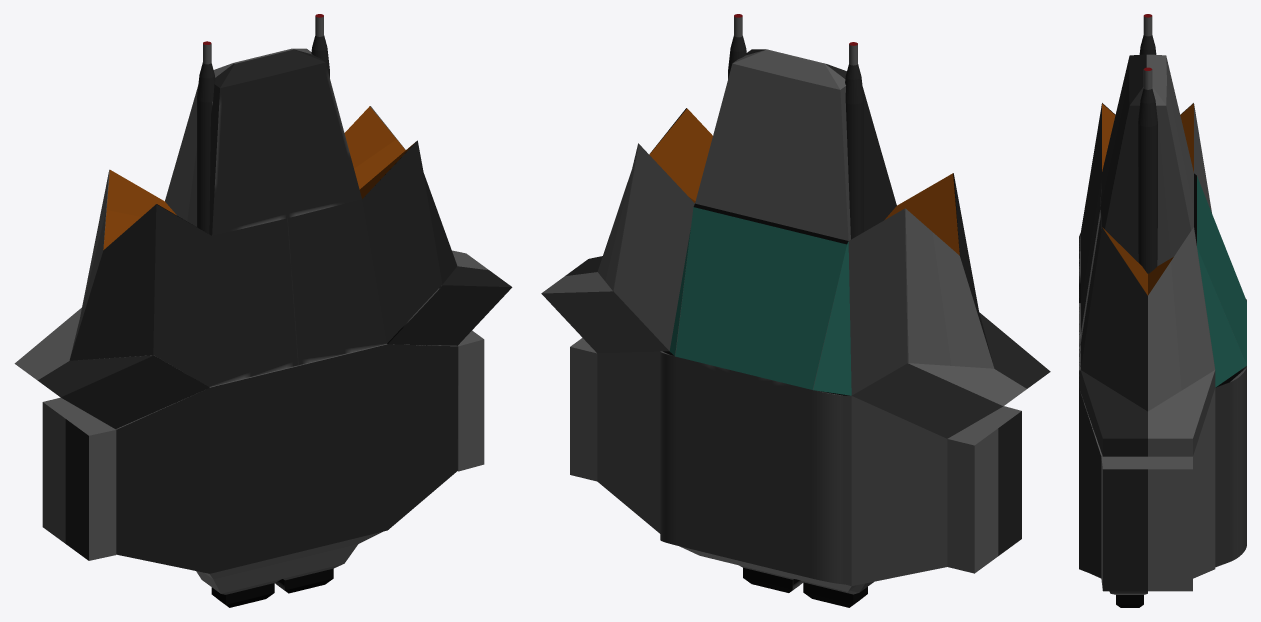
Rendered from ship2new.fbx.
3 views of the same model, side by side, from view 1: azimuth 30°, elevation 25°; view 2: azimuth 150°, elevation 25°; view 3: azimuth 270°, elevation 25° (orthographic). The views are drawn at different scales.
Visible parts, largest first — view 1: Cube; view 2: Cube; view 3: Cube.
Boxes of the visible parts, box(x1,y1,x2,y2) form: Cube: box(14, 14, 512, 607); Cube: box(541, 14, 1050, 607); Cube: box(1079, 14, 1246, 607).
Bounding box in the file's own units: 254 × 299 × 83.84.
